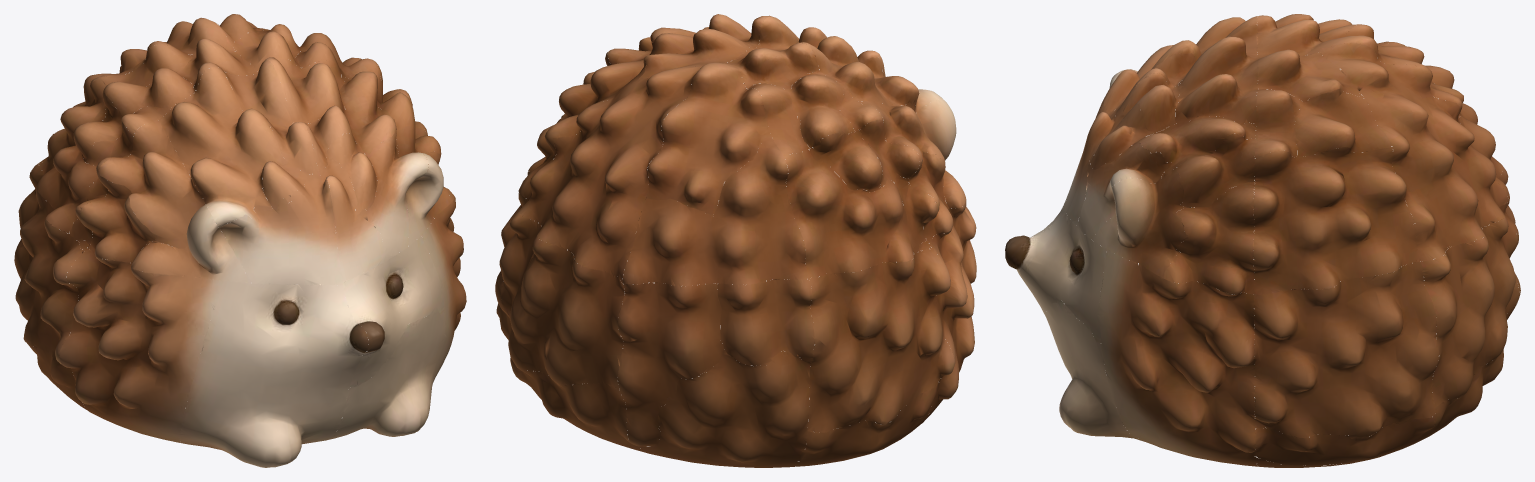
File: hedgehog.glb
3 renders of one model, left to right at view 1: azimuth 30°, elevation 25°; view 2: azimuth 150°, elevation 25°; view 3: azimuth 270°, elevation 25°, orthographic. The views are drawn at different scales.
Parts seen in each view (by area): view 1: Hedgehog · Tripo terracotta; view 2: Hedgehog · Tripo terracotta; view 3: Hedgehog · Tripo terracotta.
Part boxes in pixels (<box>): Hedgehog · Tripo terracotta: <box>14,14,466,467</box>; Hedgehog · Tripo terracotta: <box>495,14,976,467</box>; Hedgehog · Tripo terracotta: <box>1005,14,1520,467</box>.
Size of the model in its own units: 0.4756 by 0.4 by 0.5179.
1 material, 1 textured.
